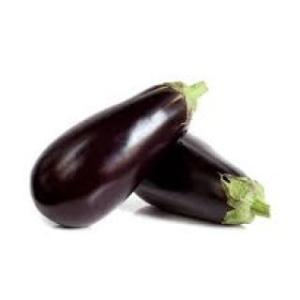eggplant: (34, 77, 196, 223), (130, 132, 262, 222)
